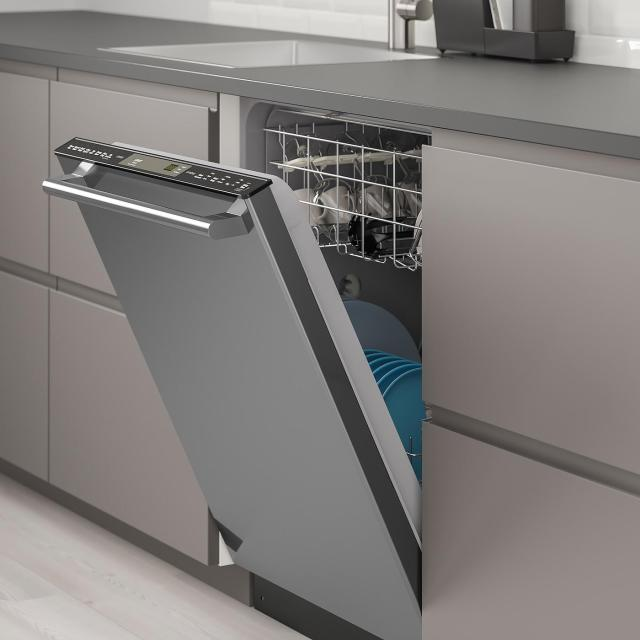dishwasher: (46, 65, 432, 640)
